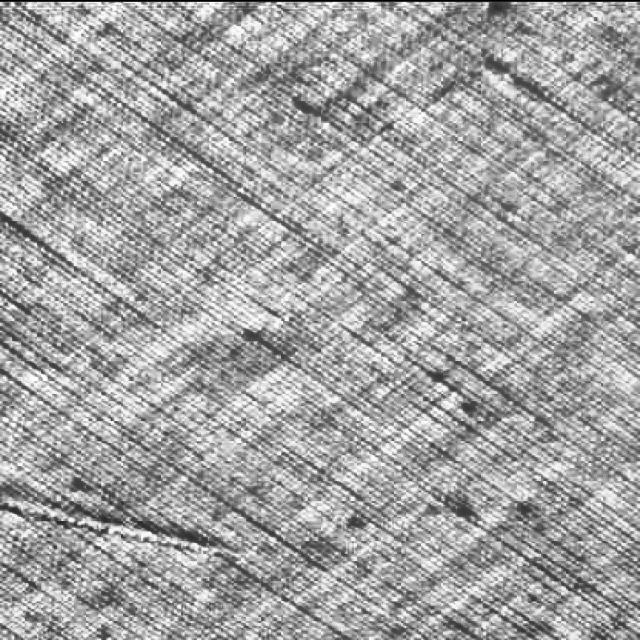thread_error: (0, 475, 264, 570)
